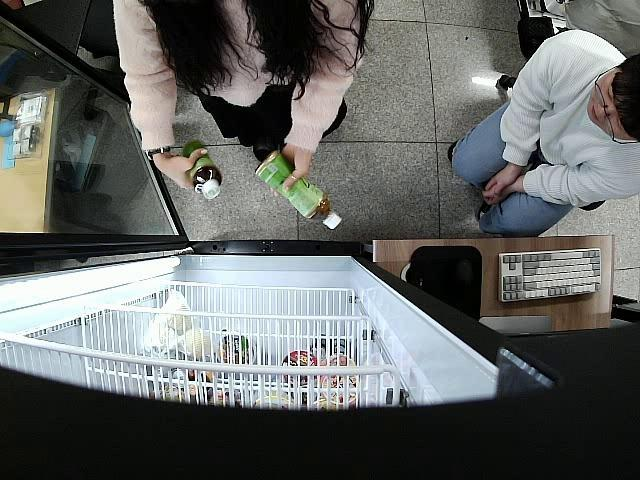19_17cha: (252, 148, 344, 232), (182, 139, 223, 200)
